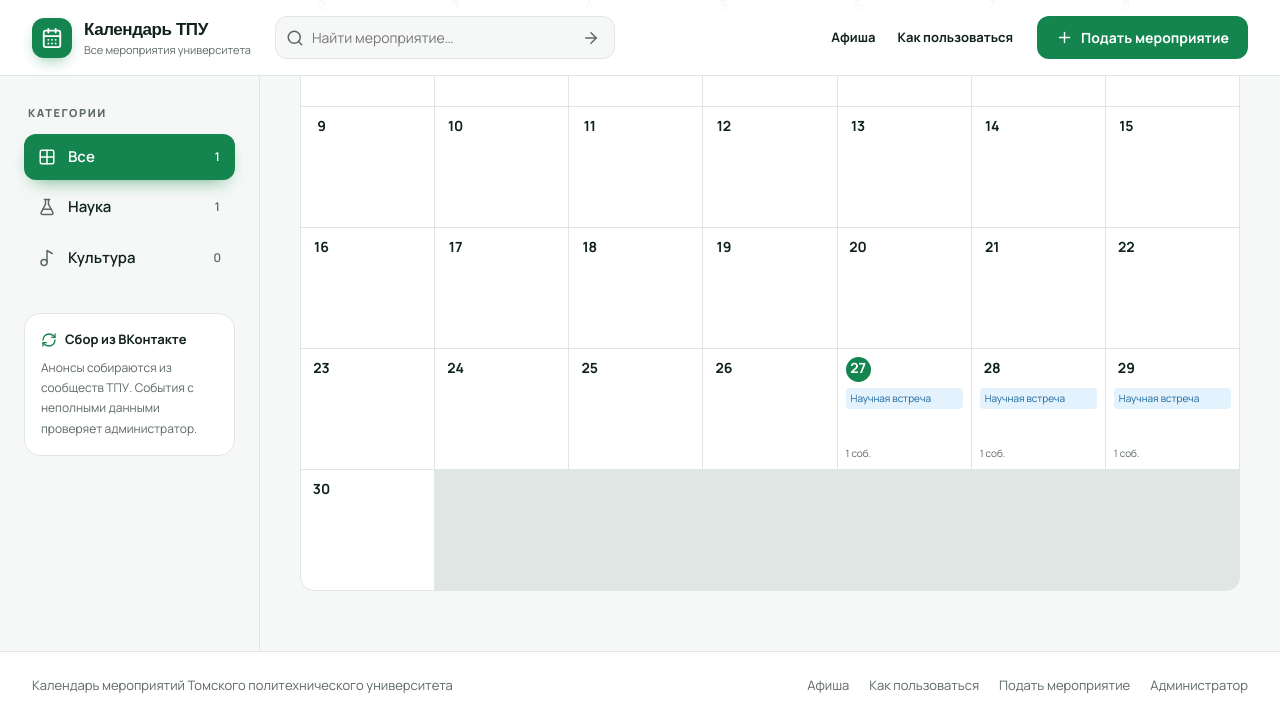
сценарии календаря › многодневное событие видно в календаре и на второй день
(page scrolled)
Click the button "28 Научная встреча 1 соб.": (1038, 409) [972,349,1105,469]
(page scrolled)
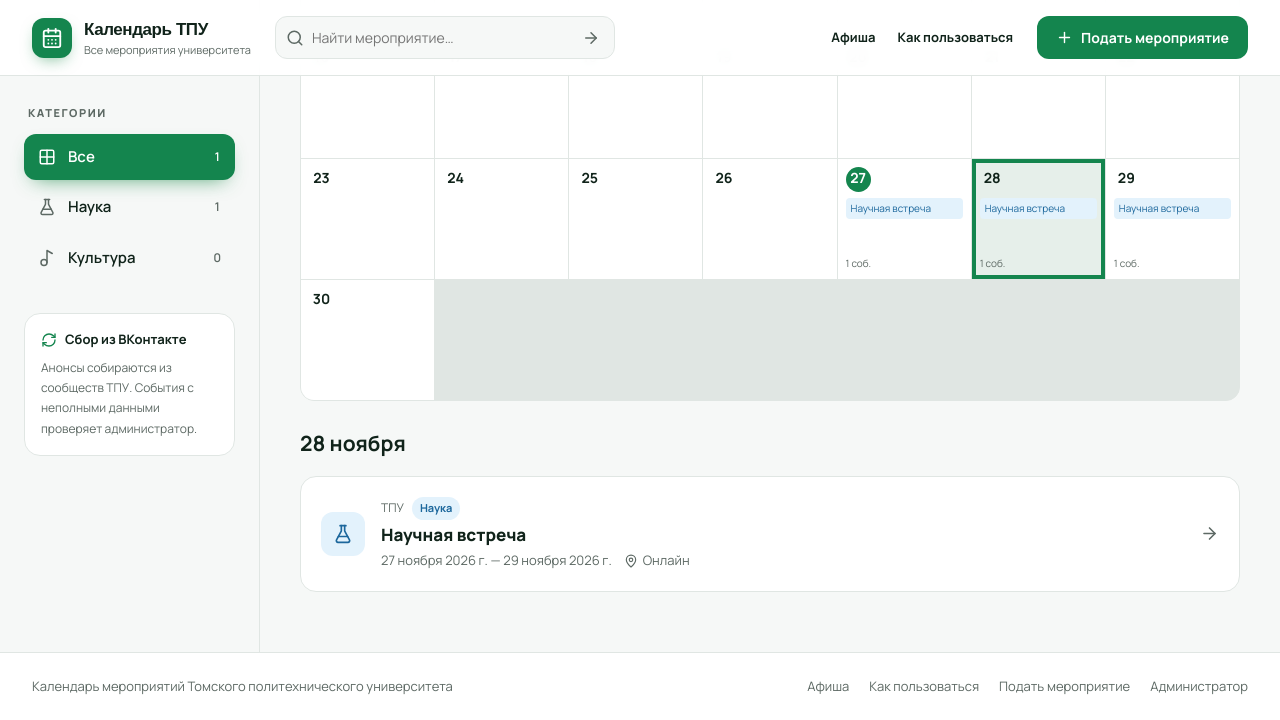
Expected: the link "Научная встреча" is shown, [300,476,1240,592]
